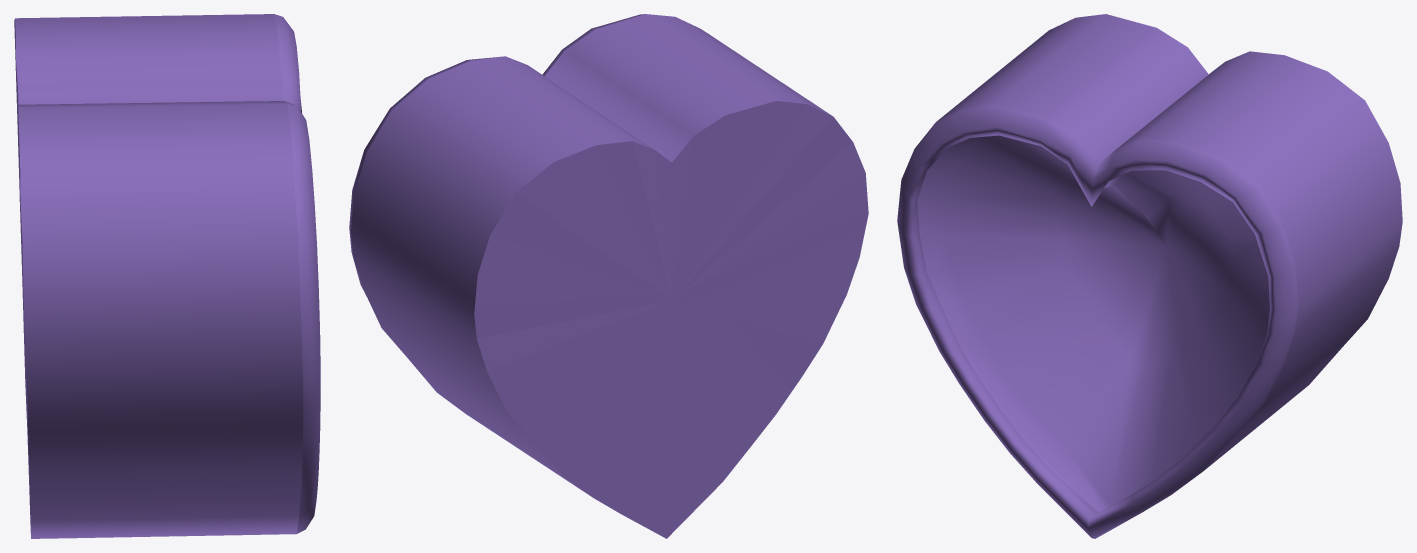
Rendered from BR4_8shapes_heart_Classic_Metal.001 2.glb.
The picture shows the model from 3 angles, left to right: view 1: azimuth 30°, elevation 25°; view 2: azimuth 150°, elevation 25°; view 3: azimuth 270°, elevation 25°; orthographic projection. The views are drawn at different scales.
Visible parts, largest first — view 1: BR4_8shapes_heart_Classic_Metal.001; view 2: BR4_8shapes_heart_Classic_Metal.001; view 3: BR4_8shapes_heart_Classic_Metal.001.
Boxes of the visible parts, x1,y1,x2,y2 form: BR4_8shapes_heart_Classic_Metal.001: (14,14,320,538); BR4_8shapes_heart_Classic_Metal.001: (349,14,868,538); BR4_8shapes_heart_Classic_Metal.001: (897,14,1402,538).
Size of the model in its own units: 0.479 by 0.5067 by 0.5677.
